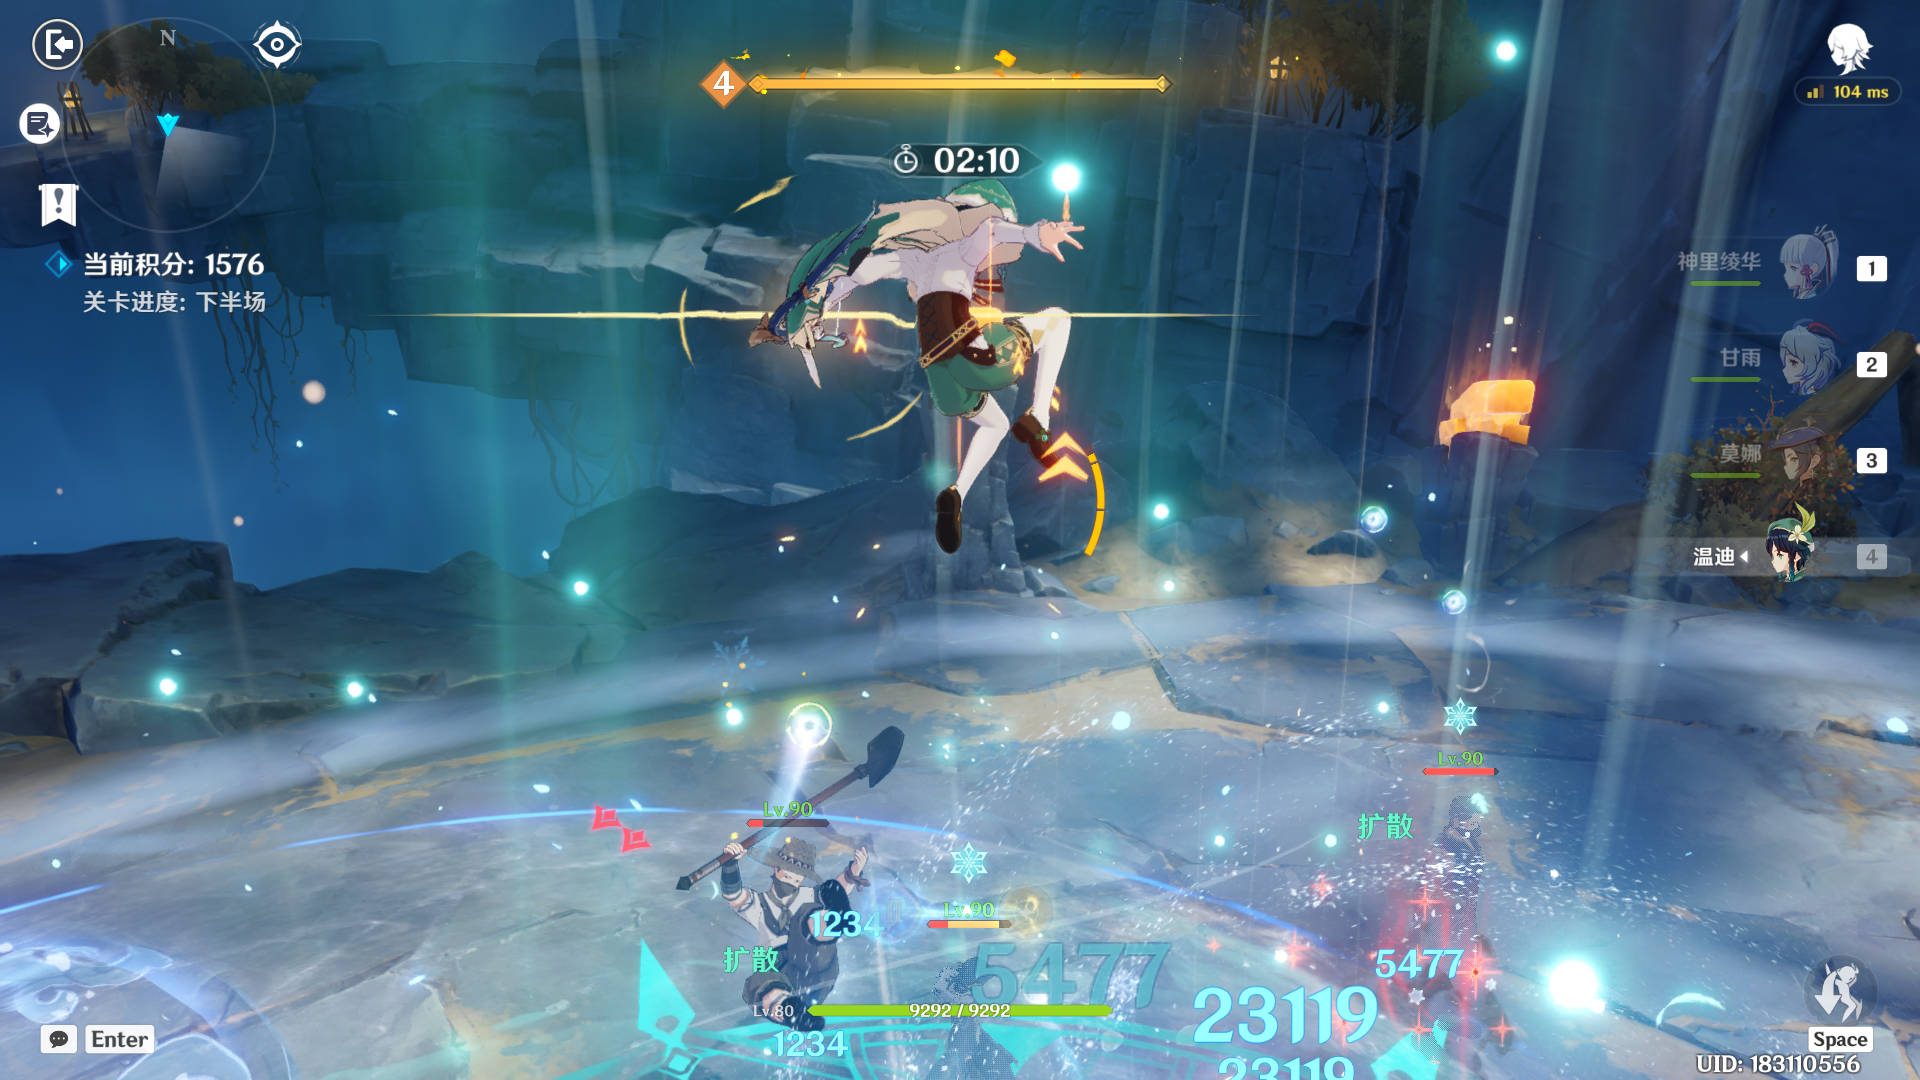character: (787, 132, 1151, 597)
robber: (665, 793, 911, 1050)
